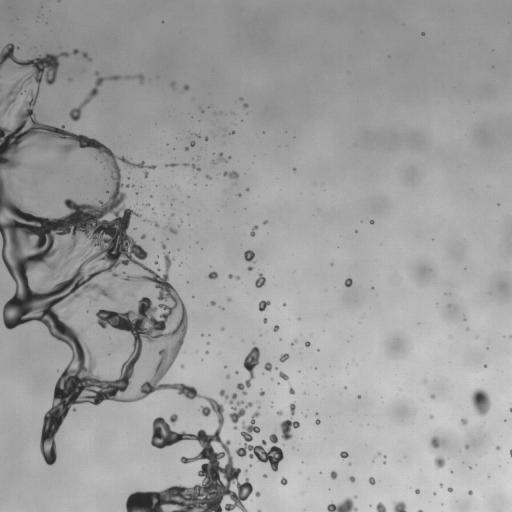droplet: (235, 412, 283, 471), (219, 389, 252, 424), (470, 388, 490, 416), (280, 419, 299, 440), (212, 153, 227, 164), (255, 273, 265, 287), (258, 300, 270, 311), (434, 456, 445, 468), (393, 501, 406, 511), (244, 250, 254, 262), (430, 436, 439, 448), (279, 353, 289, 362), (279, 371, 288, 381), (376, 502, 386, 511), (169, 414, 177, 424), (208, 271, 217, 279), (344, 278, 352, 287), (33, 165, 40, 174), (264, 362, 271, 371), (330, 470, 337, 479), (340, 451, 348, 458), (460, 418, 467, 425), (281, 477, 287, 485), (369, 477, 375, 484), (289, 386, 294, 394), (183, 84, 189, 90), (273, 325, 279, 331), (349, 476, 355, 482), (72, 49, 78, 54), (161, 243, 166, 249), (291, 339, 297, 344), (243, 103, 248, 108), (190, 141, 195, 146), (153, 222, 158, 227), (305, 341, 310, 346), (260, 390, 265, 395), (315, 419, 320, 424), (447, 487, 452, 492), (206, 175, 211, 179), (141, 234, 145, 239), (247, 266, 252, 270), (210, 301, 215, 305), (263, 318, 267, 323), (430, 394, 435, 398), (277, 411, 282, 415), (415, 488, 419, 493), (255, 492, 260, 496), (170, 82, 174, 86), (263, 220, 267, 224), (496, 446, 500, 450), (468, 490, 472, 494), (230, 131, 235, 134), (180, 364, 183, 368), (226, 375, 230, 378), (465, 445, 468, 449), (205, 137, 208, 140), (246, 188, 249, 191), (237, 193, 240, 196), (146, 203, 149, 206), (370, 220, 373, 223), (283, 303, 286, 306), (205, 350, 208, 353), (357, 395, 360, 398), (430, 415, 433, 418), (377, 452, 380, 455), (263, 474, 266, 477), (509, 408, 511, 412), (422, 32, 424, 35), (196, 134, 199, 136), (185, 147, 187, 150), (126, 184, 128, 187), (171, 213, 173, 216), (155, 261, 157, 264), (330, 263, 333, 265), (131, 293, 134, 295), (228, 298, 230, 301), (86, 310, 89, 312), (206, 342, 209, 344), (107, 352, 110, 354), (235, 371, 238, 373), (234, 426, 236, 429), (348, 463, 351, 465), (245, 470, 247, 473), (240, 98, 242, 100), (228, 156, 230, 158), (172, 199, 174, 201), (144, 219, 146, 221), (355, 230, 357, 232), (463, 318, 465, 320), (221, 328, 223, 330), (484, 365, 486, 367), (143, 366, 145, 368), (73, 409, 75, 411), (440, 484, 442, 486)
ligament: (0, 44, 247, 511), (69, 71, 120, 121), (237, 345, 259, 395), (0, 80, 22, 111), (326, 497, 357, 511), (123, 74, 144, 82), (183, 163, 200, 171), (163, 226, 177, 234), (223, 171, 238, 178), (250, 225, 258, 236), (289, 403, 295, 416), (82, 52, 91, 60), (228, 274, 238, 279), (166, 163, 177, 167), (33, 178, 37, 186), (22, 77, 29, 81), (50, 169, 56, 173), (510, 449, 511, 456), (257, 510, 261, 511), (418, 510, 422, 511), (57, 0, 60, 1)
